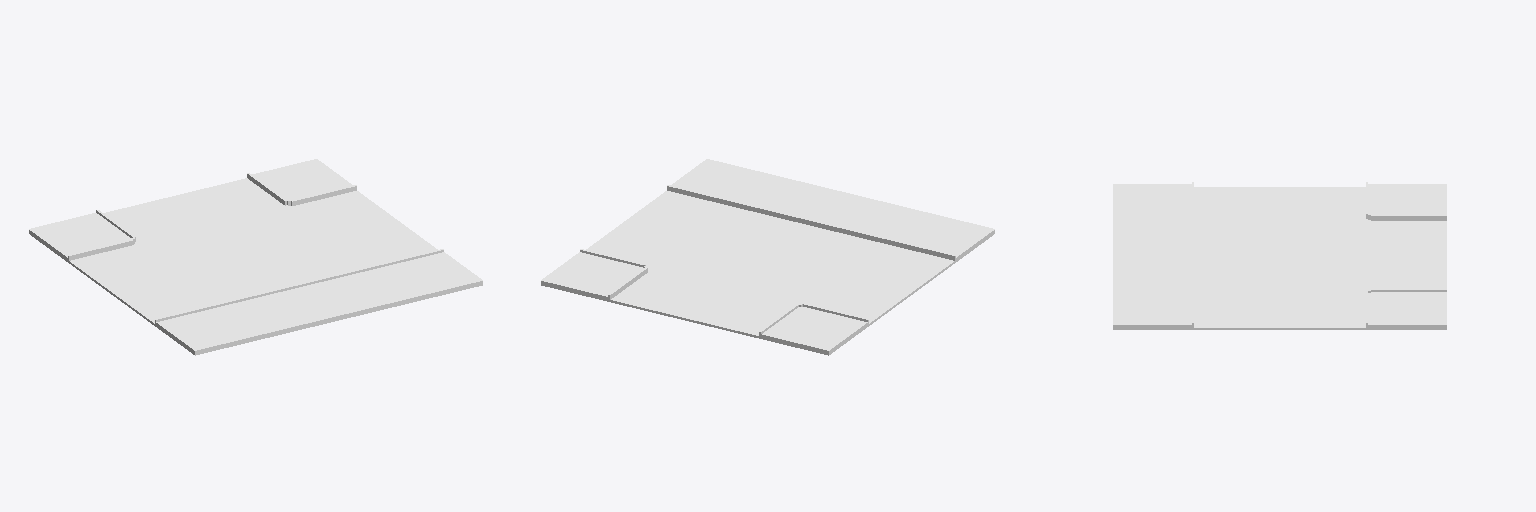
The model's file is GDS2_Flooring-8.obj.
3 views of the same model, side by side, from view 1: azimuth 30°, elevation 25°; view 2: azimuth 150°, elevation 25°; view 3: azimuth 270°, elevation 25° (orthographic).
Visible parts, largest first — view 1: GDS2_Flooring-8; view 2: GDS2_Flooring-8; view 3: GDS2_Flooring-8.
Part boxes in pixels (x1,y1,x2,y2): GDS2_Flooring-8: (29,159,482,355); GDS2_Flooring-8: (541,159,994,355); GDS2_Flooring-8: (1113,182,1446,329).
Bounding box in the file's own units: 12.8 × 0.3 × 12.8.